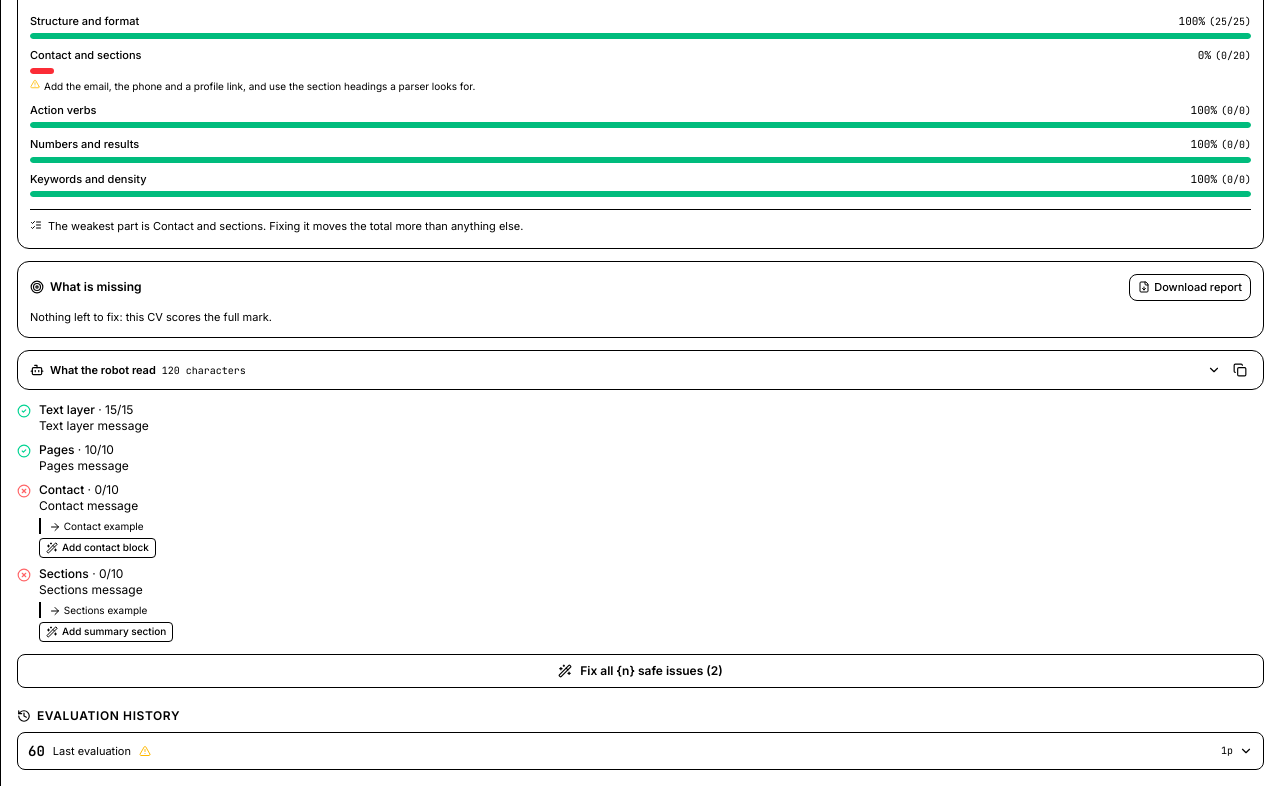
ATSAnalyzer › marks a record as stale once the CV moves on
The image size is (1280, 786).
(page scrolled)
Click the button "60 Last evaluation 1p" at coordinates (92, 751), box [17, 732, 1264, 770]
(page scrolled)
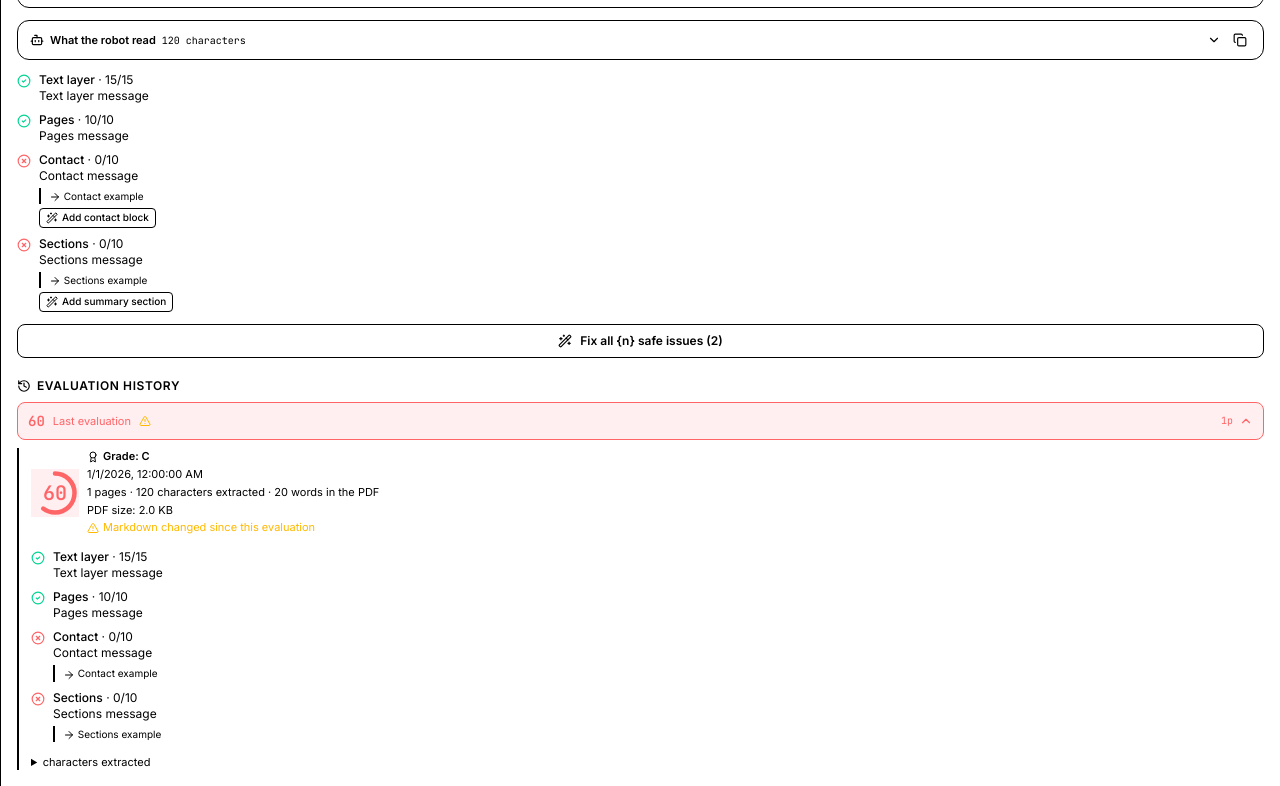
Expected: the text "Markdown changed since this evaluation" is shown, [87, 520, 315, 534]
